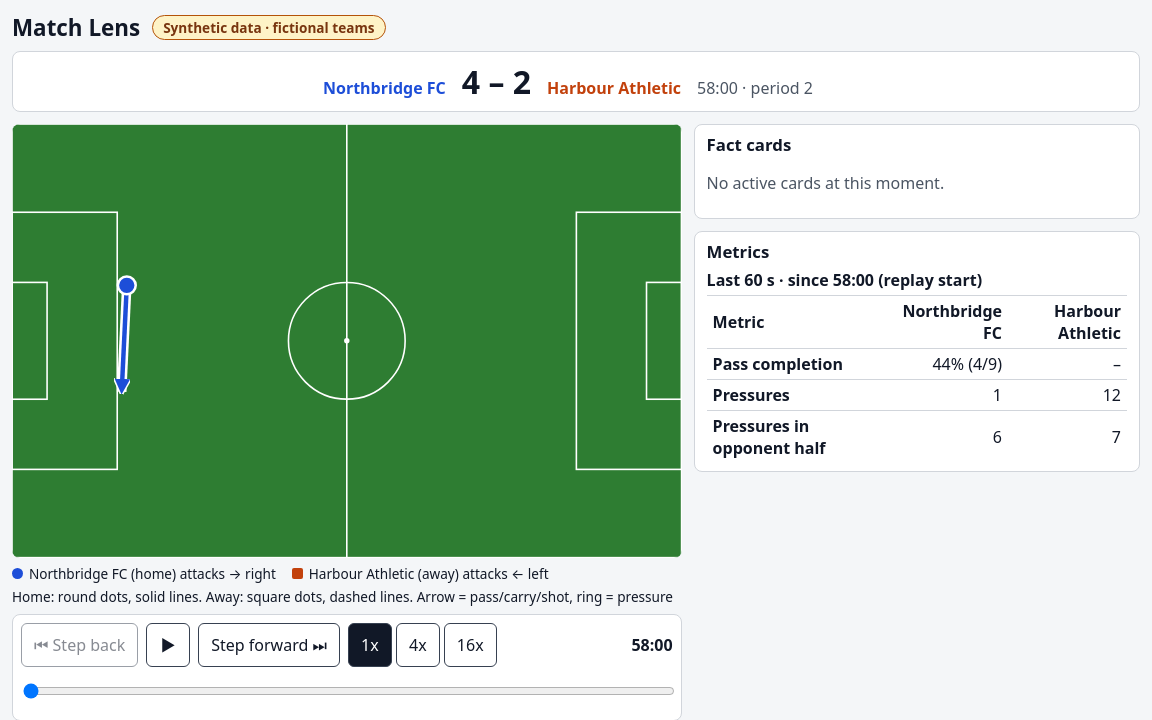
replay controls › step forward and back change the watermark and request a snapshot for the new at_seq
Check: the slider named "Replay position" is shown, box [23,675,675,707]
What coordinates should you click on to do the following:
click the button "Step forward ⏭"
I would click on:
 (269, 645)
Its box is [198,623,340,667].
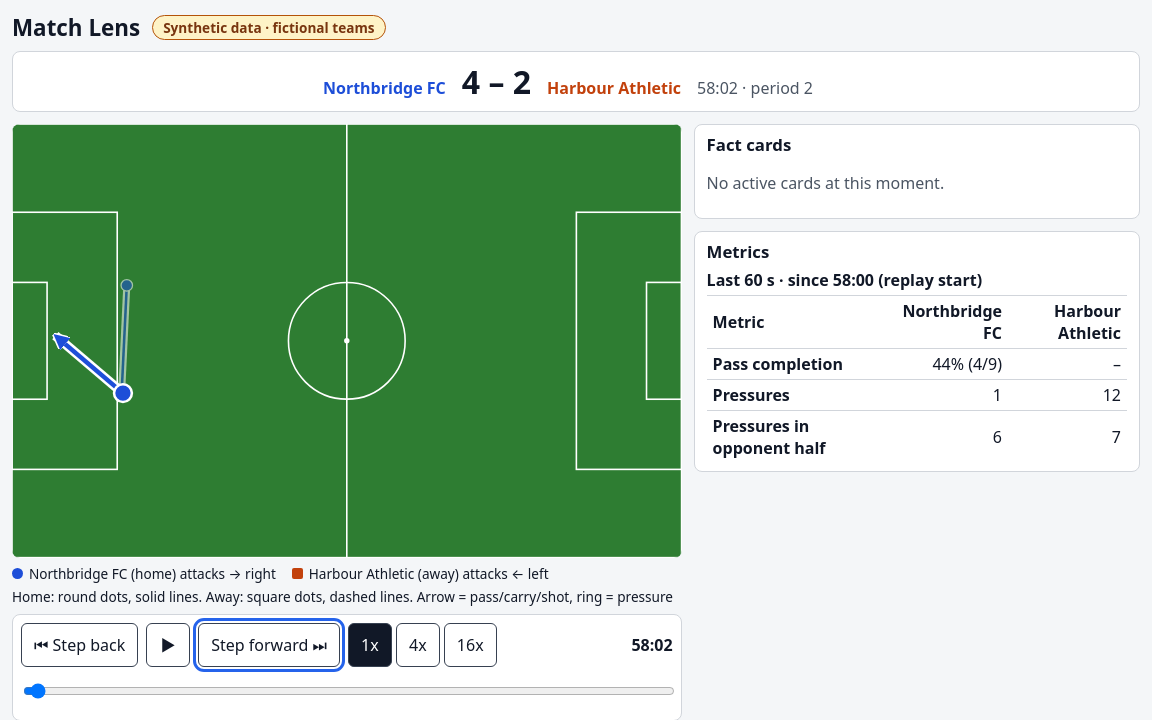
Check: the slider named "Replay position" holds "1", box [23,675,675,707]
What coordinates should you click on to do the following:
click the button "⏮ Step back"
I would click on:
 (80, 645)
Its box is [21,623,138,667].
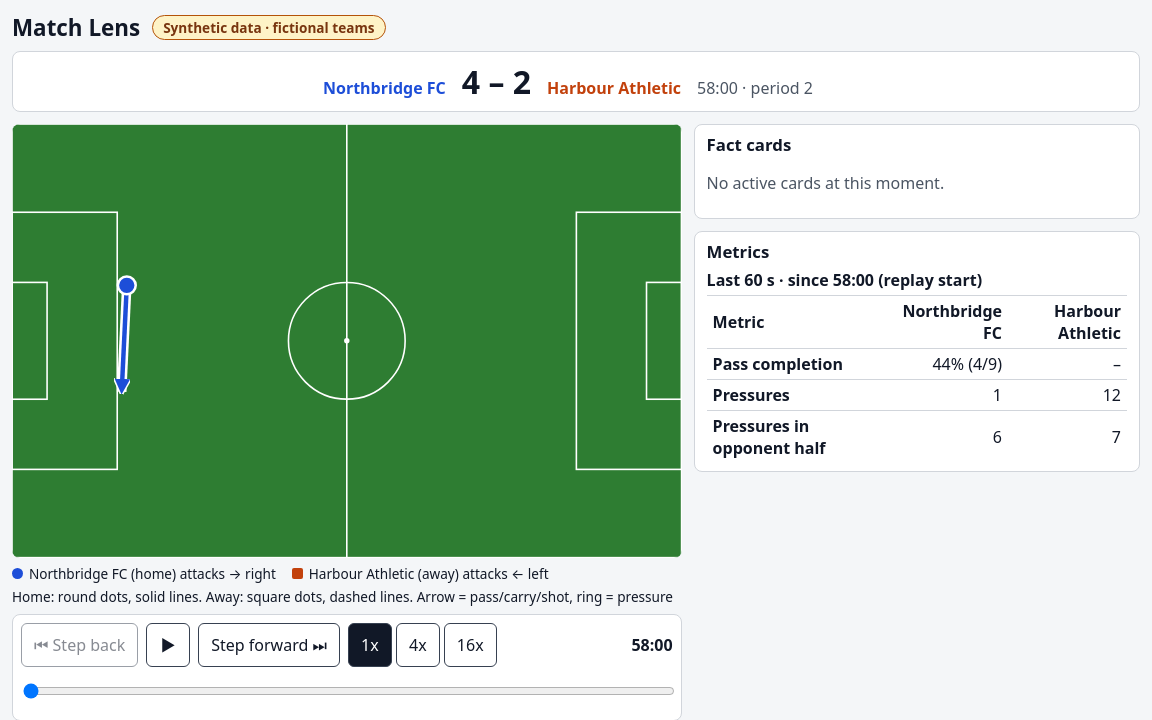
Check: the slider named "Replay position" holds "0", box [23,675,675,707]
